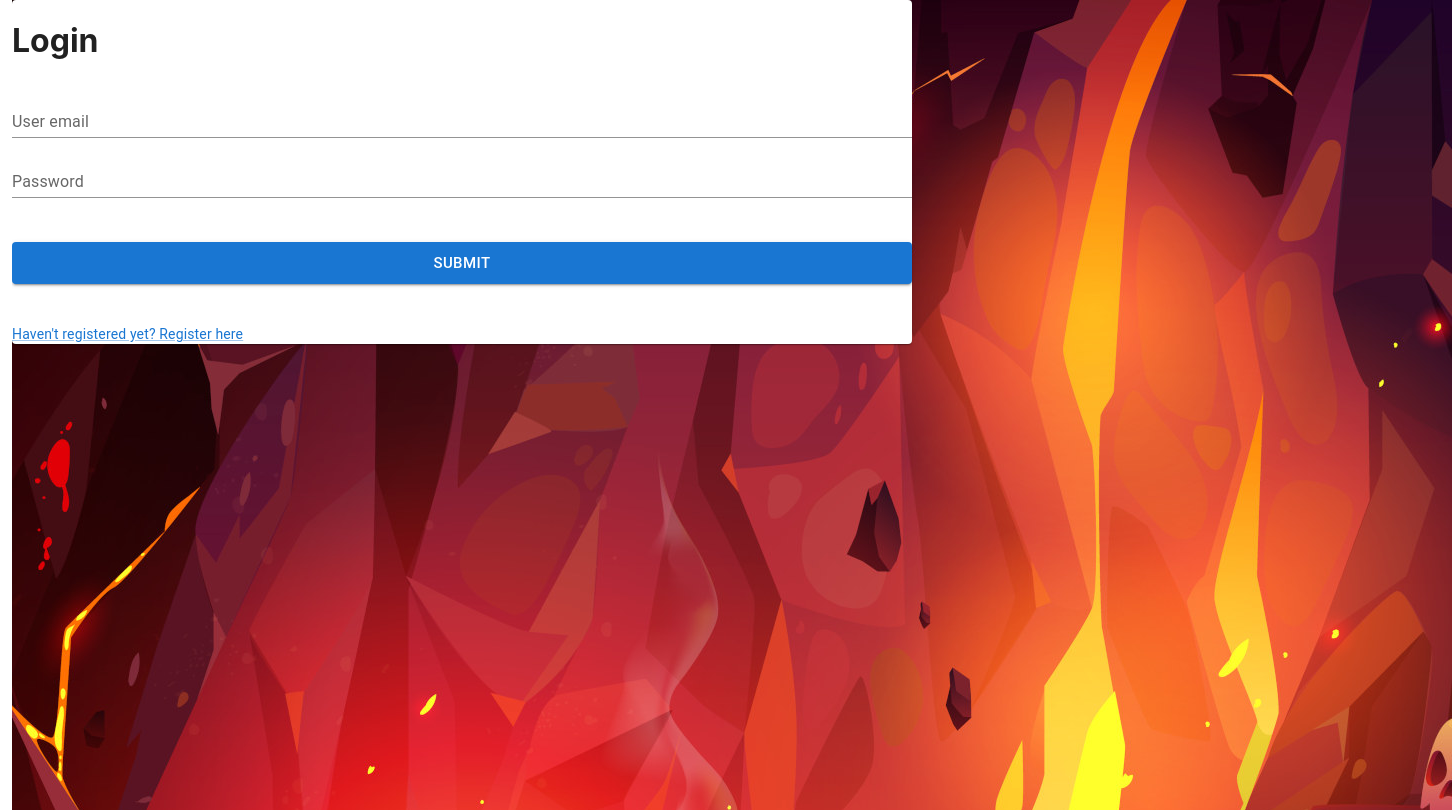
Test: Login › uses a generic safe message for unknown registration errors
The image size is (1452, 810).
Click the button "Haven't registered yet? Register here" at (128, 334), box top-left (12, 324), bottom-right (243, 344)
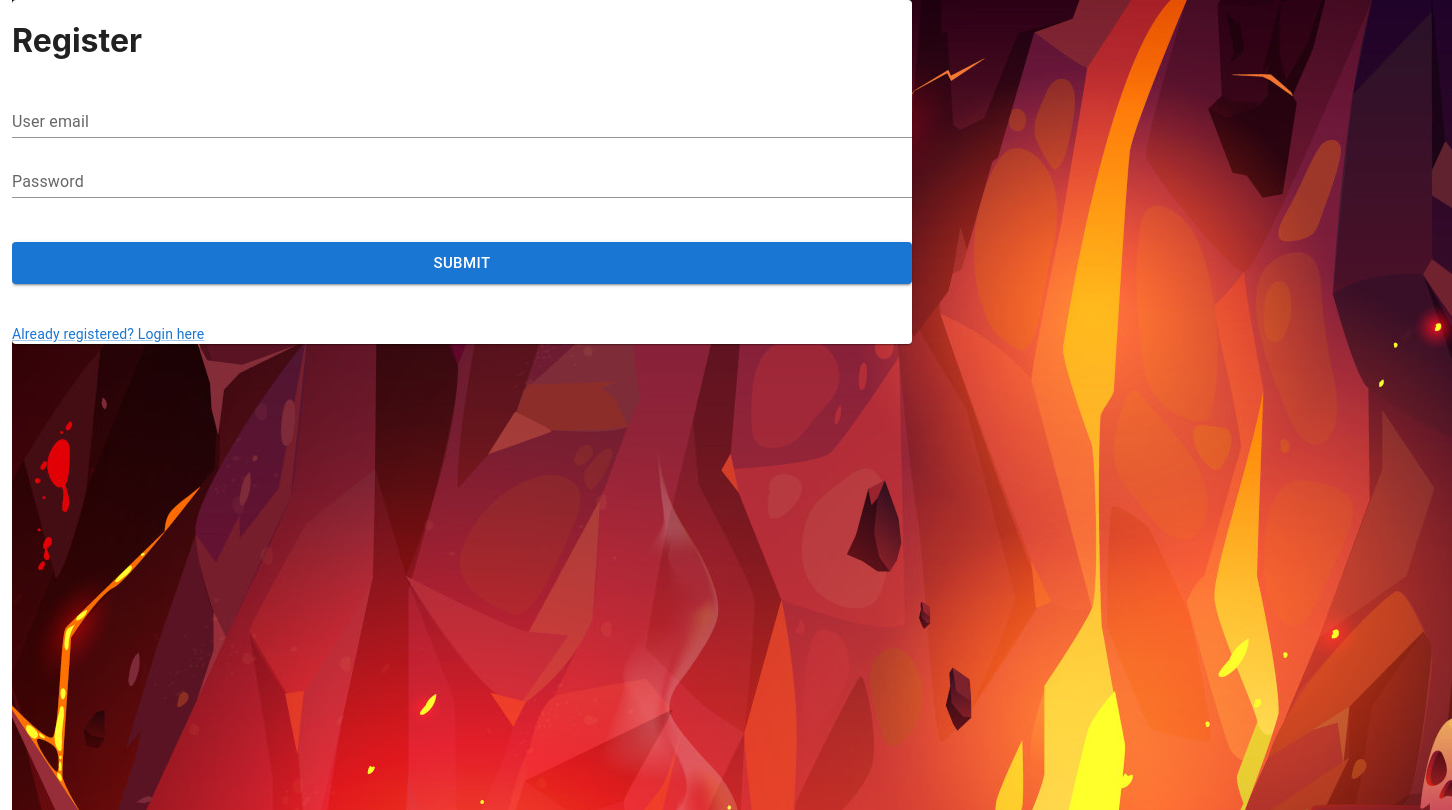
Type "player@example.com" into the field labelled "User email" at (462, 122), box top-left (12, 106), bottom-right (912, 138)
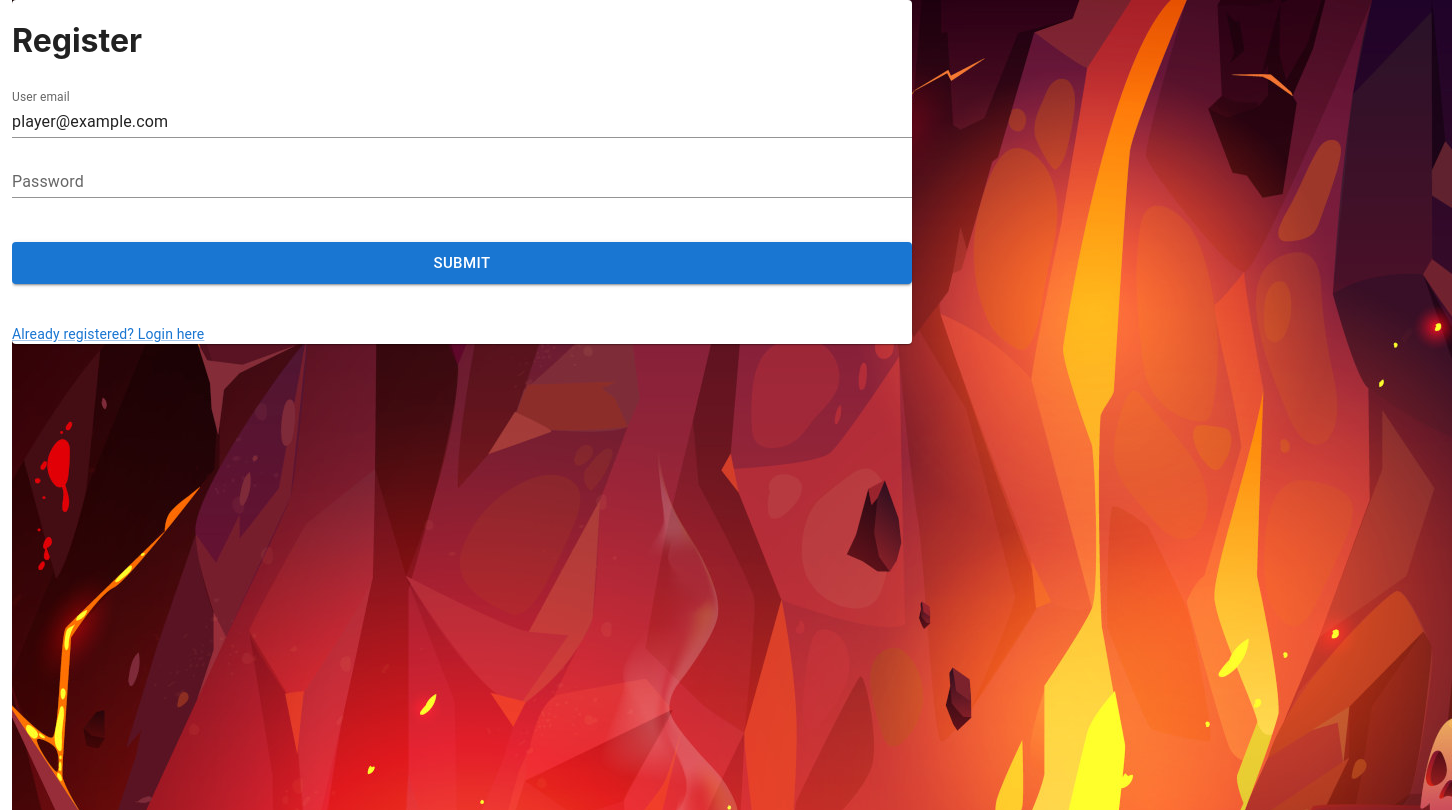
Type "safe-password" into the password field labelled "Password" at (462, 182), box top-left (12, 166), bottom-right (912, 198)
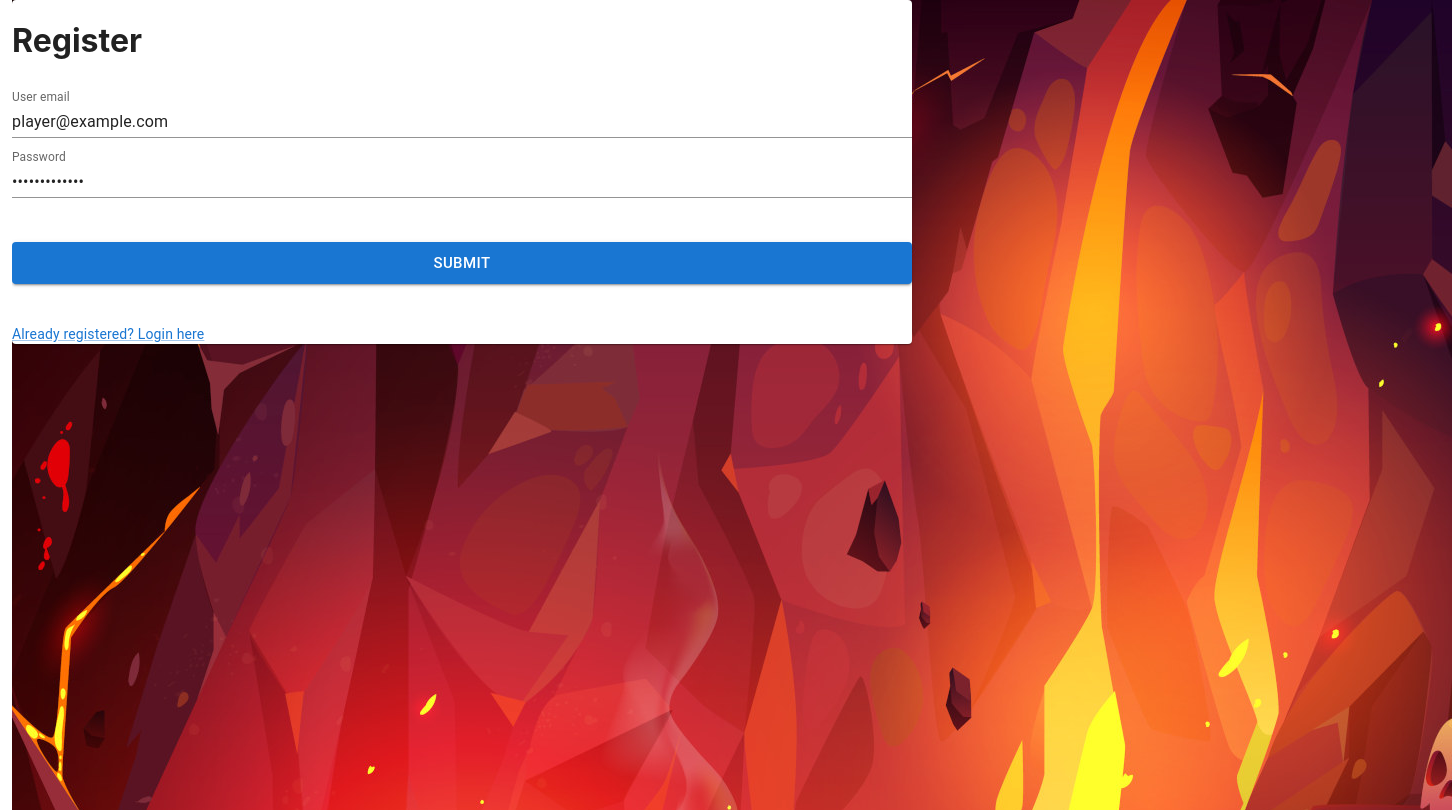
Click the button "Submit" at (462, 263), box top-left (12, 242), bottom-right (912, 284)
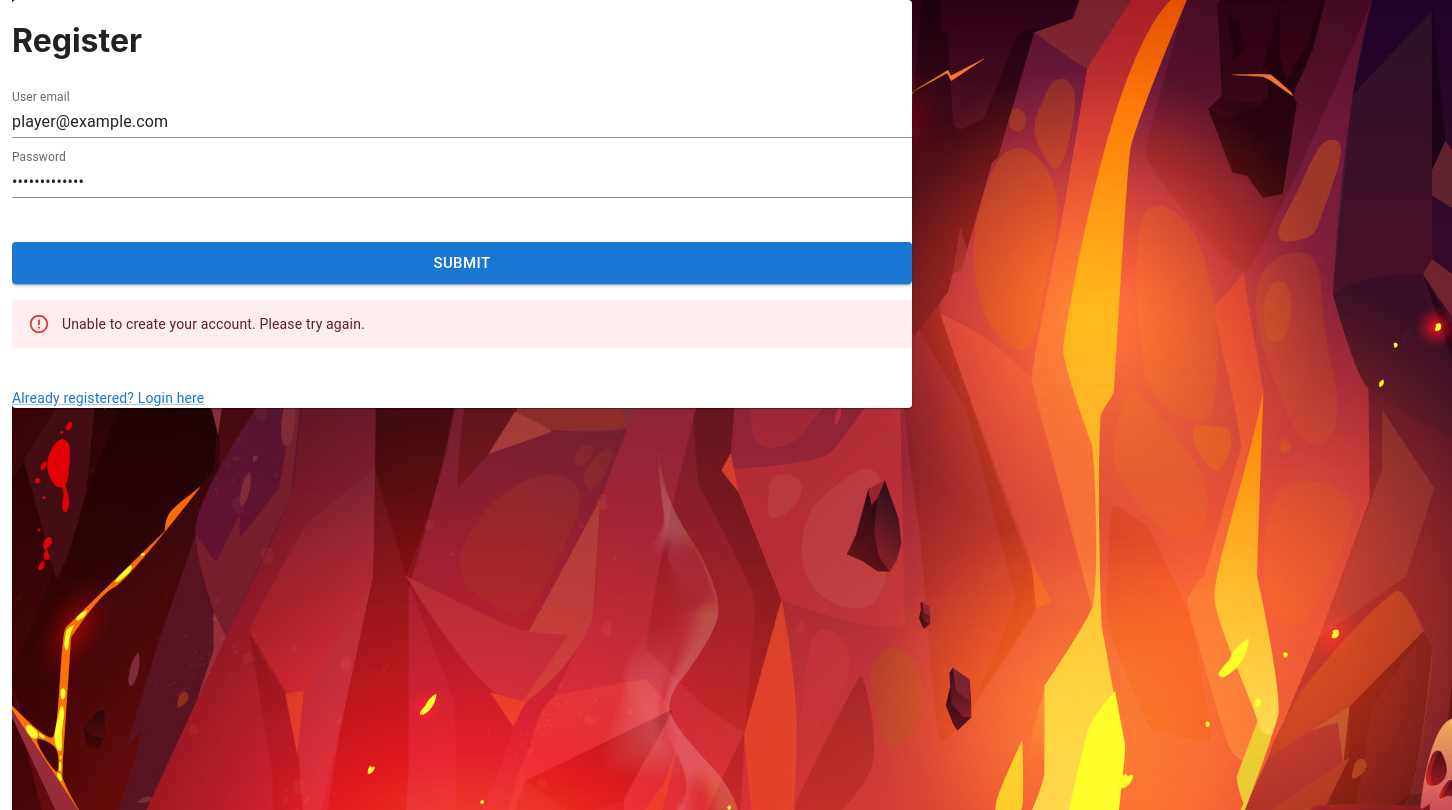
Check: the text "Unable to create your account. Please try again." is shown, box top-left (62, 316), bottom-right (365, 332)
